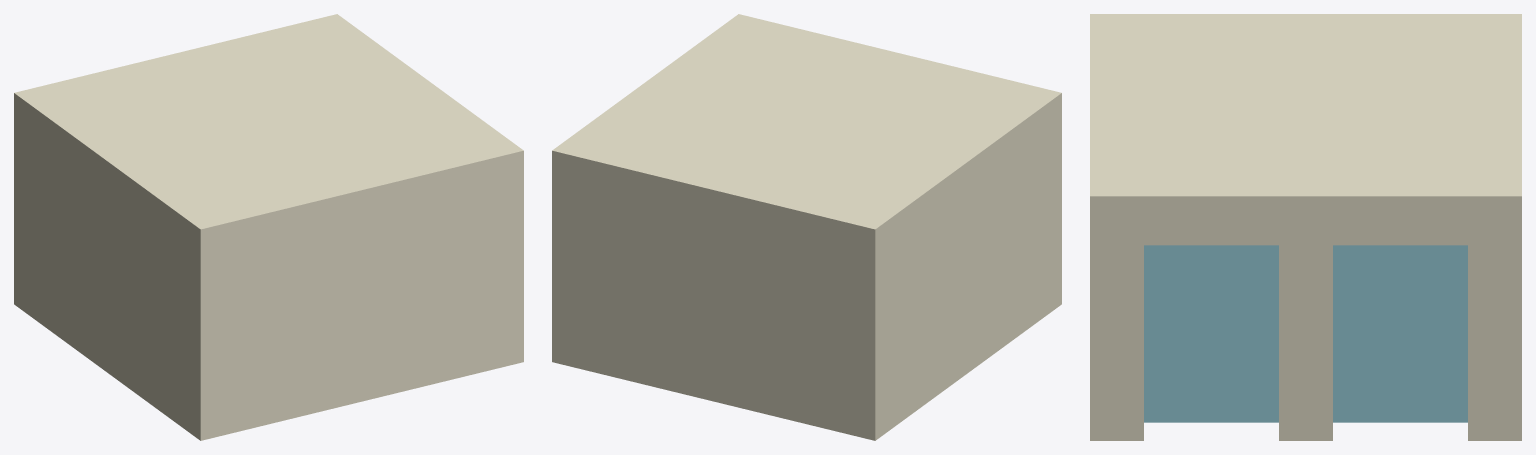
File: building_027.dae
The picture shows the model from 3 angles, left to right: view 1: azimuth 30°, elevation 25°; view 2: azimuth 150°, elevation 25°; view 3: azimuth 270°, elevation 25°; orthographic projection. The views are drawn at different scales.
Parts seen in each view (by area): view 1: building_027; view 2: building_027; view 3: building_027.
Part boxes in pixels (left/top/right/bottom): building_027: left=14, top=14, right=523, bottom=440; building_027: left=552, top=14, right=1061, bottom=440; building_027: left=1090, top=14, right=1521, bottom=440.
Size of the model in its own units: 1 by 0.625 by 1.
